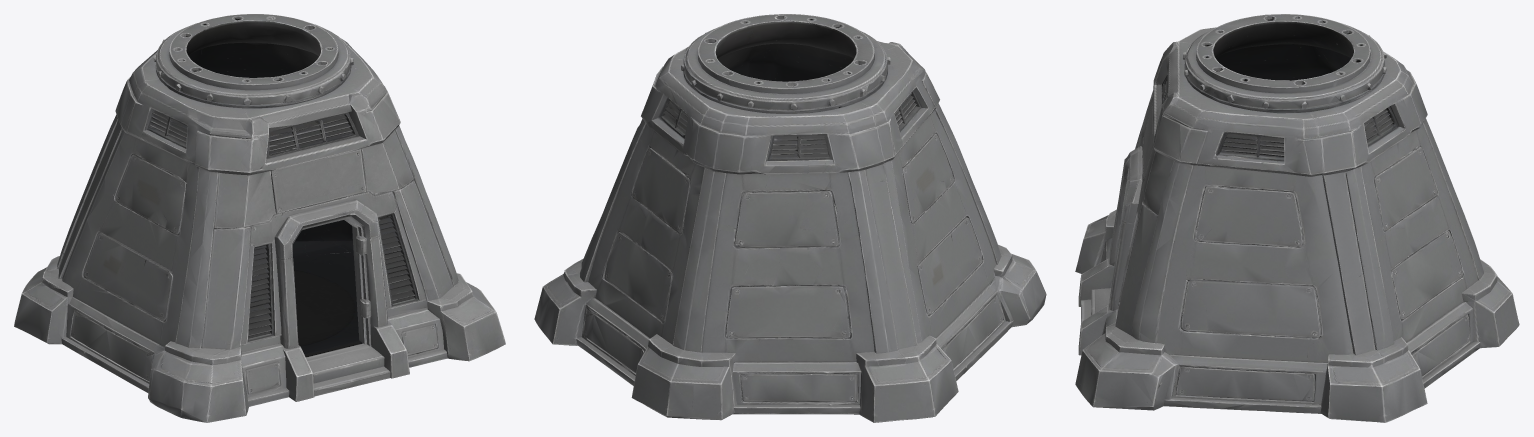
The model's file is shared_flak_tower_large_option.glb.
The picture shows the model from 3 angles, left to right: view 1: azimuth 30°, elevation 25°; view 2: azimuth 150°, elevation 25°; view 3: azimuth 270°, elevation 25°; orthographic projection. The views are drawn at different scales.
Parts seen in each view (by area): view 1: mesh_node; view 2: mesh_node; view 3: mesh_node.
Boxes of the visible parts, box(x1,y1,x2,y2) form: mesh_node: box(14, 14, 505, 422); mesh_node: box(534, 14, 1046, 422); mesh_node: box(1075, 14, 1519, 422).
Size of the model in its own units: 8.04 by 5.36 by 7.81.
1 material, 1 textured.
